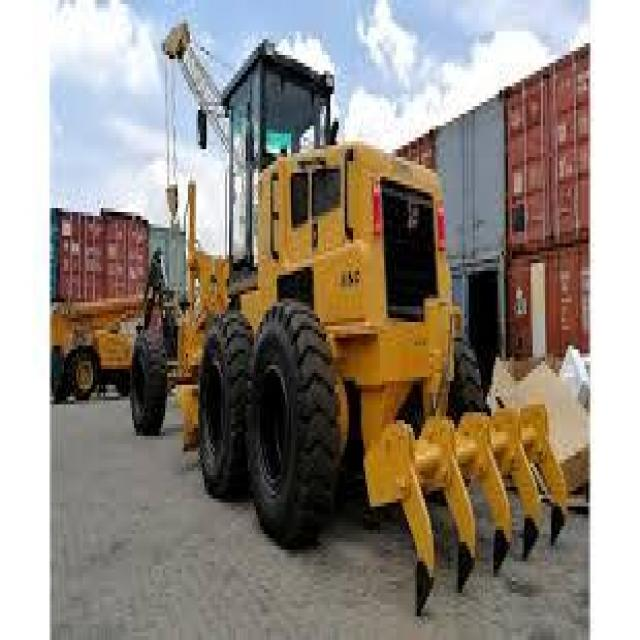Grader: (95, 40, 568, 624)
